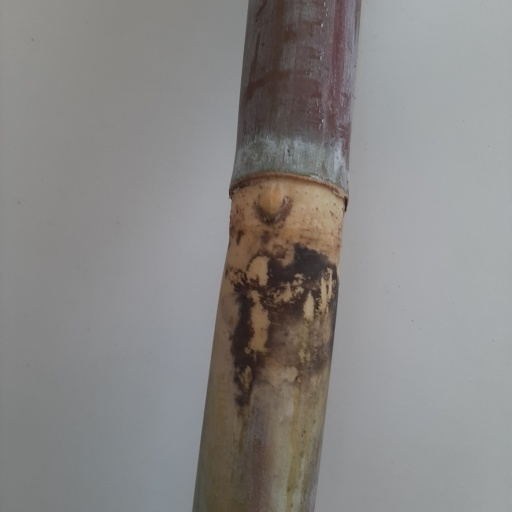Bud: (255, 185, 288, 224)
